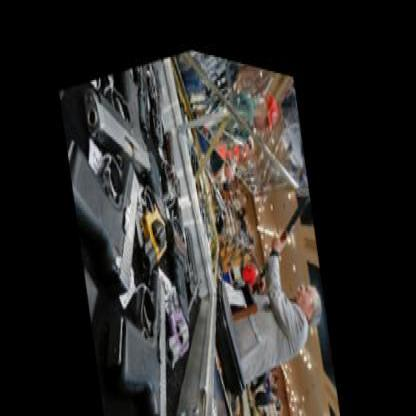pistol: (62, 98, 160, 311), (92, 240, 193, 414), (78, 47, 156, 198), (148, 234, 204, 369), (125, 131, 178, 269), (138, 47, 174, 149)
